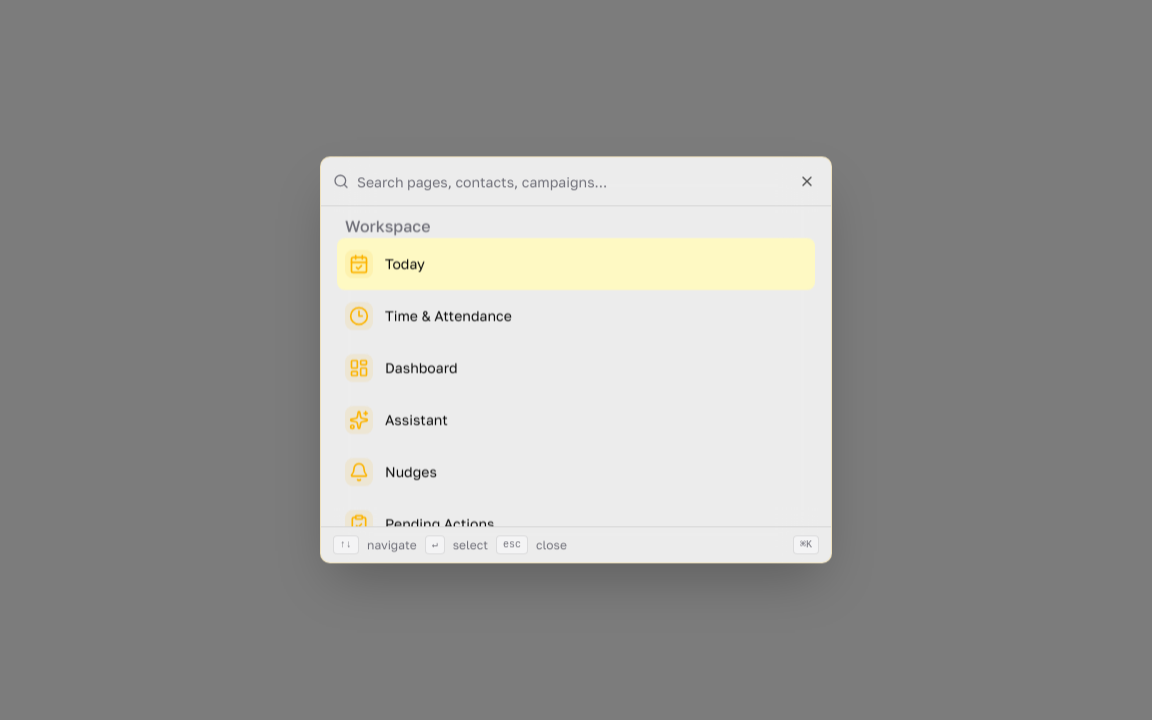
Test case: CommandPalette › shows the empty state when nothing matches pages, contacts, or campaigns
The image size is (1152, 720).
Step 1. Type "zzzzz" into the dropdown with placeholder "Search pages, contacts, campaigns..." → x=588, y=181, box [357,157,819,205]
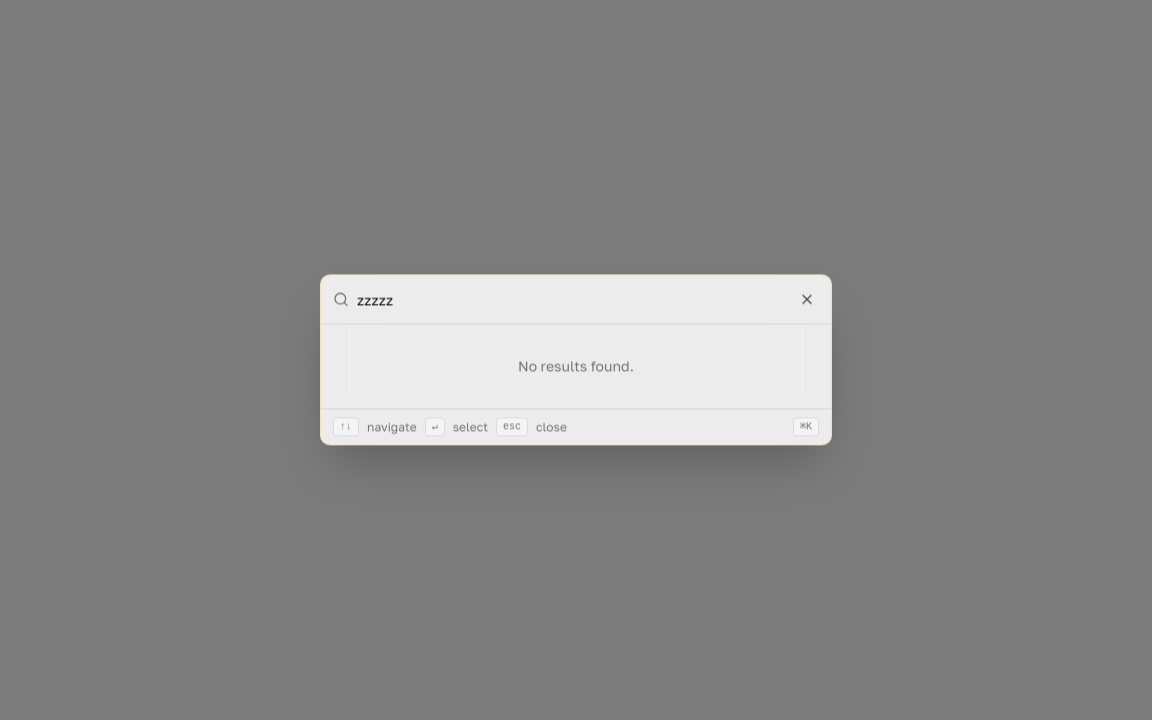
Expected: the text "No results found." is shown, [518,357,634,374]
